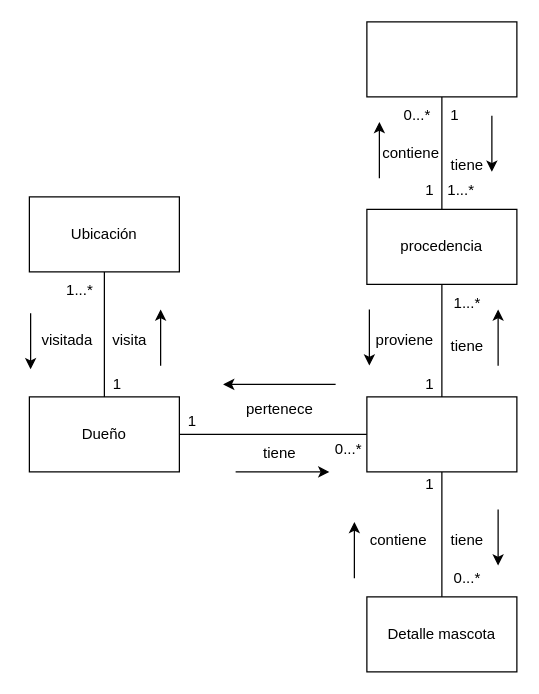
Some shapes in this 539 by 694 pixel diagram are drawn without their labels. The centre of each missing label's shape, as x and y in pixels:
Mascota: [441,434]
raza: [441,59]
